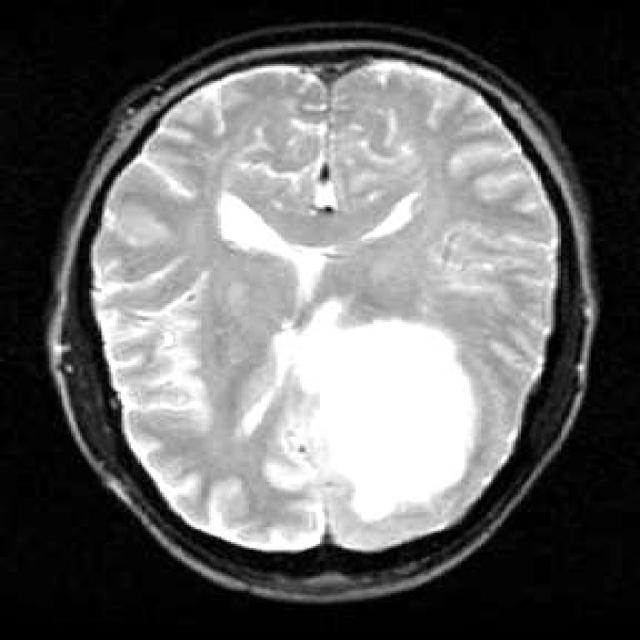Tumor-Cell: (278, 304, 484, 508)
